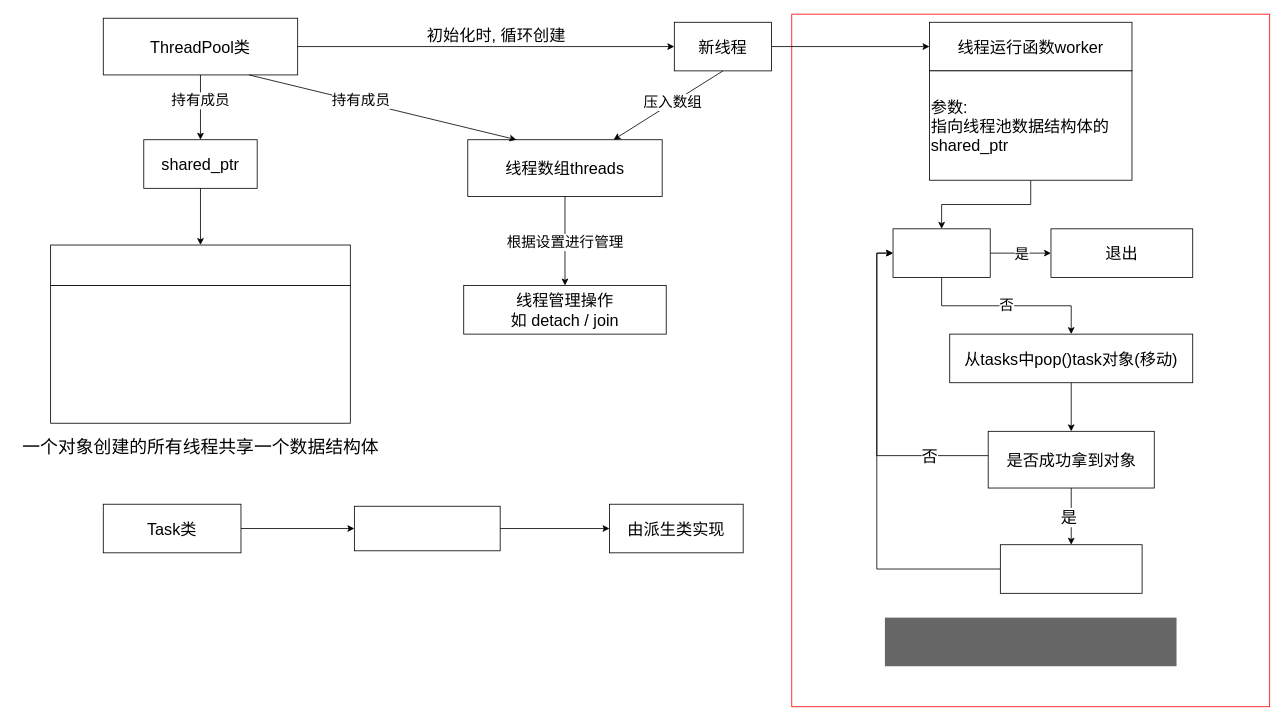
The diagram is 1284 pixels wide and 721 high, and some of its shapes have lost their labels. Each missing label, with the centre of its shape:
is_close_?: point (941, 252)
整个过程必须有try-catch的错误处理机制 防止因为单个线程错误导致全部崩溃: point (1030, 641)
纯虚接口process: point (427, 528)
线程池数据结构体: point (200, 265)
调用接口process: point (1071, 568)
阻塞队列tasks存储Task类指针 is_close_ is_stop_ 线程池其他辅助数据: point (200, 354)
